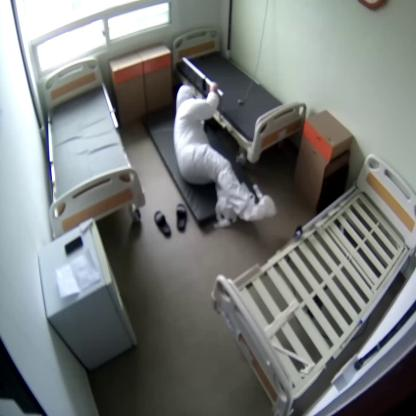Person: (174, 81, 272, 220)
